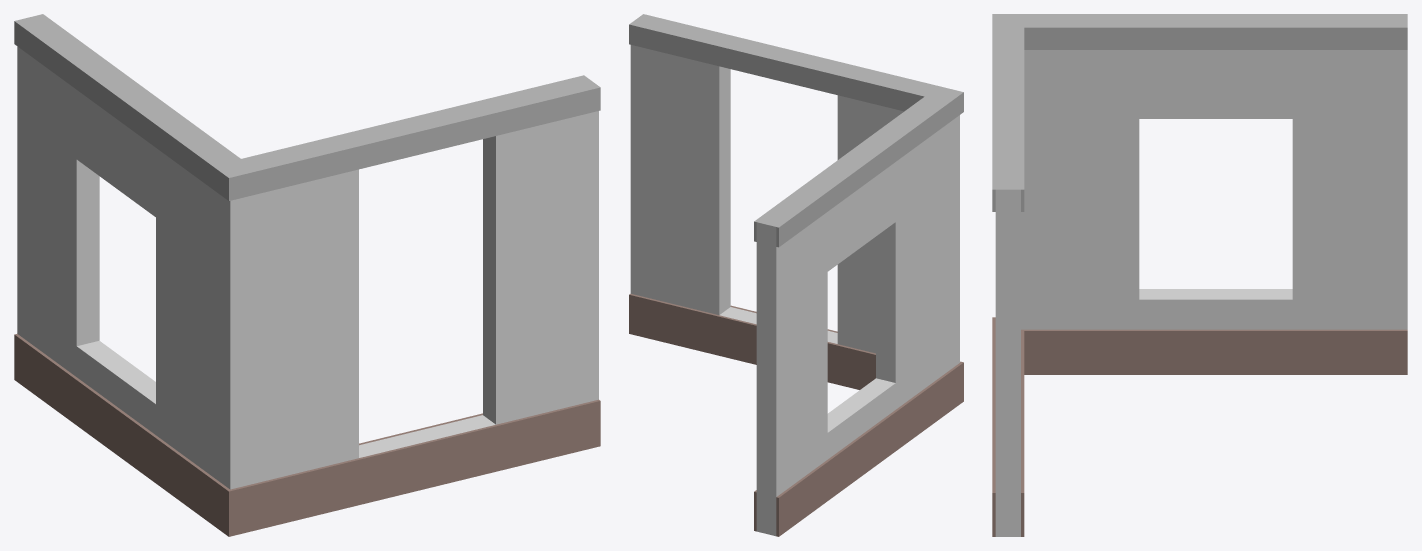
The model's file is Wall06-04.fbx.
3 renders of one model, left to right at view 1: azimuth 30°, elevation 25°; view 2: azimuth 150°, elevation 25°; view 3: azimuth 270°, elevation 25°, orthographic. The views are drawn at different scales.
Parts seen in each view (by area): view 1: Wall06-04; view 2: Wall06-04; view 3: Wall06-04.
Part boxes in pixels (x1,y1,x2,y2): Wall06-04: [14, 14, 600, 536]; Wall06-04: [629, 14, 963, 536]; Wall06-04: [992, 14, 1407, 536].
Bounding box in the file's own units: 3.25 × 3.25 × 3.
